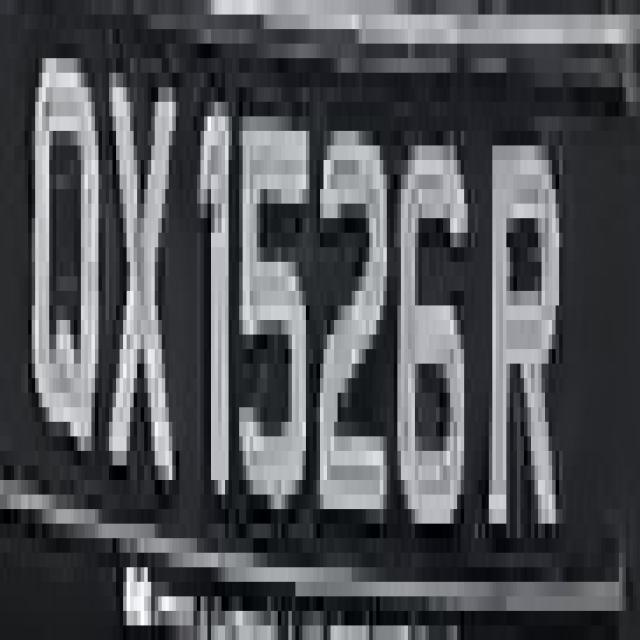1: (197, 72, 239, 552)
2: (313, 87, 387, 538)
5: (239, 88, 313, 568)
6: (387, 73, 471, 582)
Q: (25, 15, 102, 480)
R: (485, 102, 573, 582)
X: (98, 29, 176, 524)
